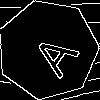A: (23, 24, 81, 80)
